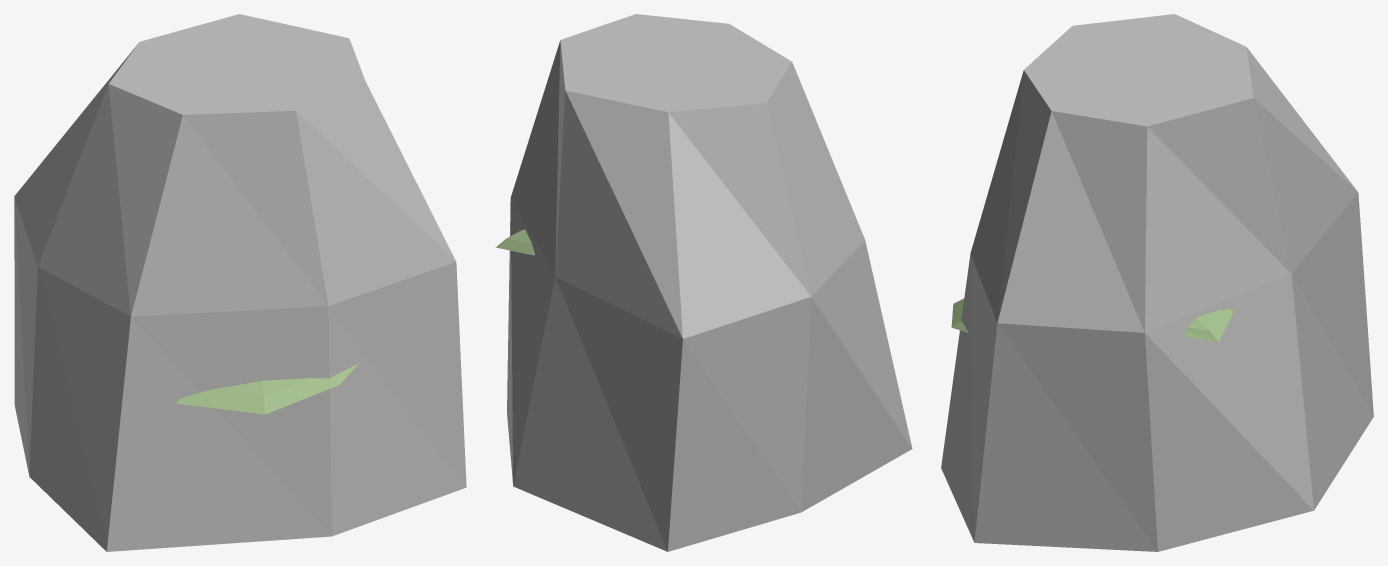
Rendered from nature_cliff_block.glb.
The picture shows the model from 3 angles, left to right: view 1: azimuth 30°, elevation 25°; view 2: azimuth 150°, elevation 25°; view 3: azimuth 270°, elevation 25°; orthographic projection. The views are drawn at different scales.
Parts seen in each view (by area): view 1: world; view 2: world; view 3: world.
Part boxes in pixels (x1,y1,x2,y2): world: (14,14,466,551); world: (495,14,912,551); world: (941,14,1373,551).
Size of the model in its own units: 1.89 by 2 by 1.96.
